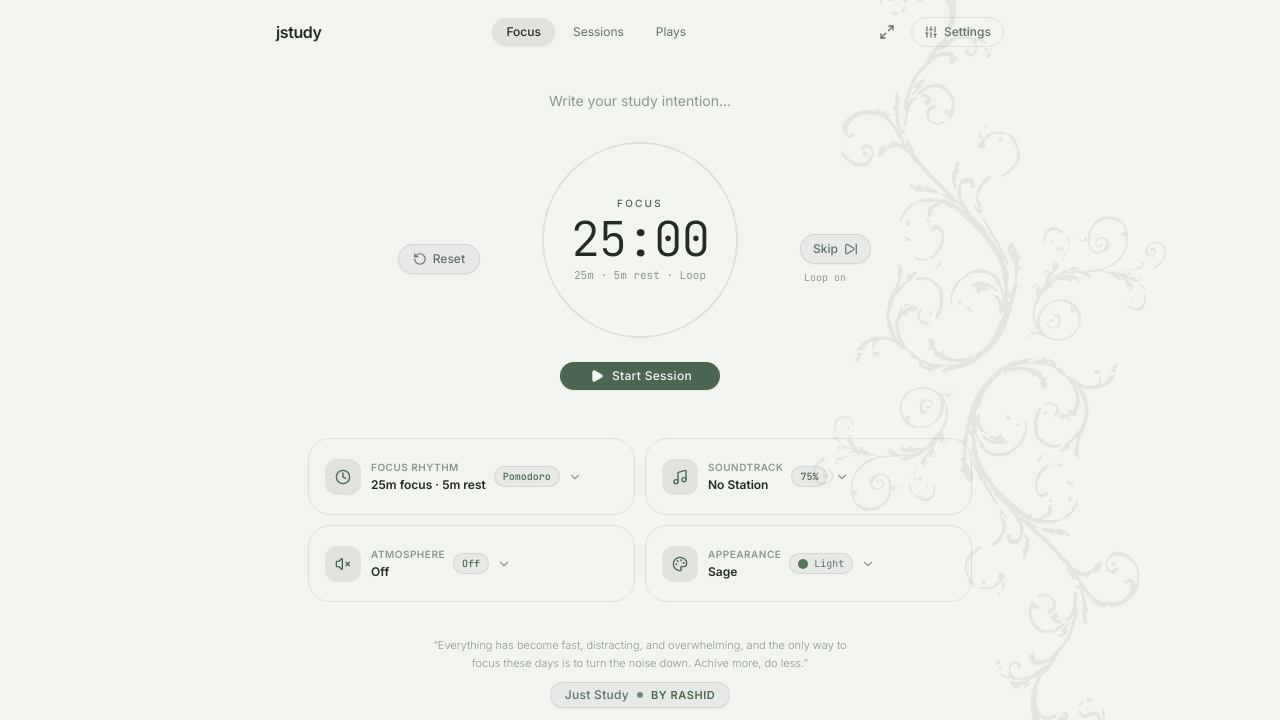
Test: Apple Style Interactive Widgets Shelf › opens settings modal directly at soundtrack station form when clicking Add custom URL in soundtrack widget
The width and height of the screenshot is (1280, 720).
Expand soundtrack widget
Hover over the element named "Soundtrack Widget".
mouse_move(808, 477)  # box [645,438,972,515]
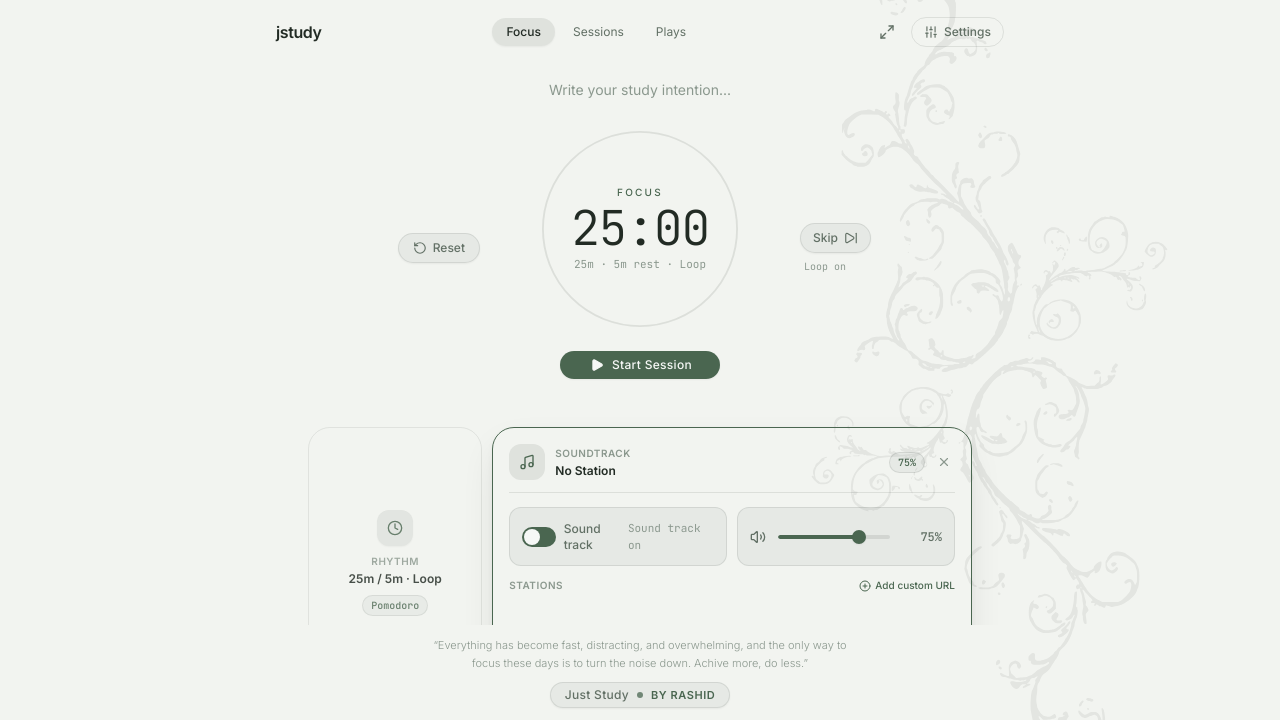
Expected: the button "Add custom URL" is shown
Click the button "Add custom URL".
click(907, 586)  # box [859,578,955,593]
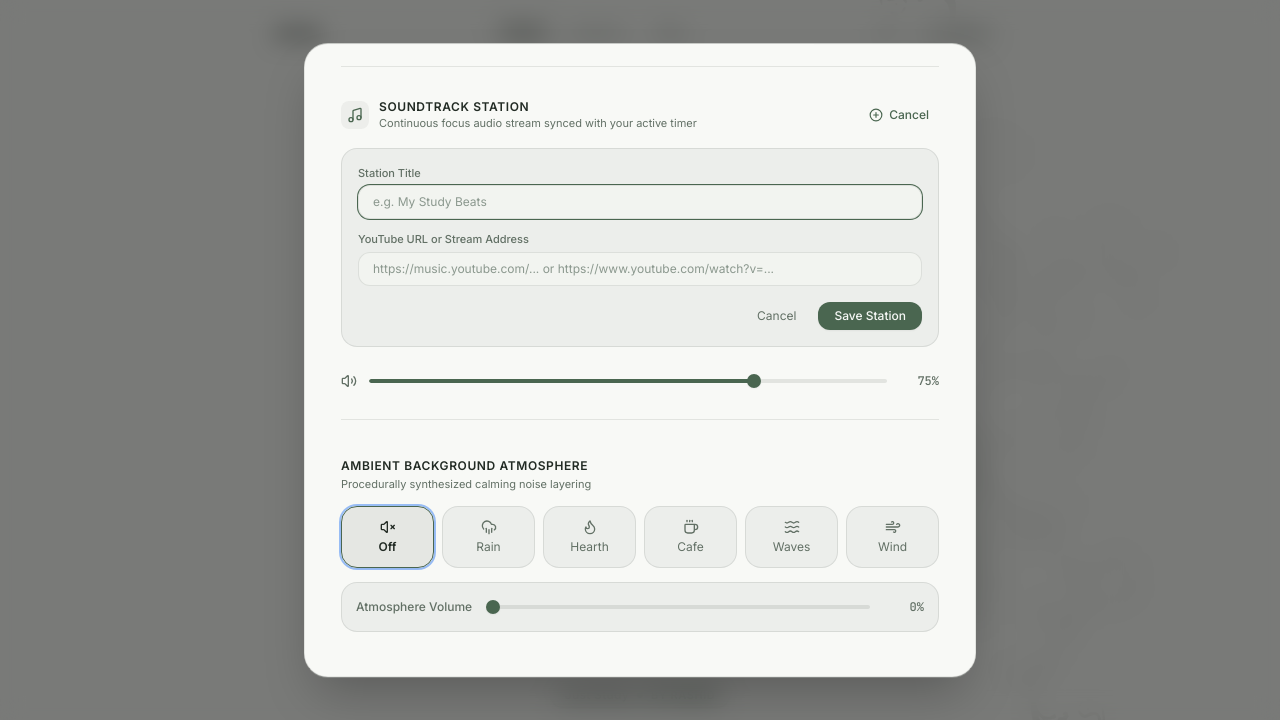
Expected: the field with placeholder "e.g. My Study Beats" is shown, [358,185,922,219]
Expected: the dialog "Settings & Preferences" is shown, [304,43,976,677]
